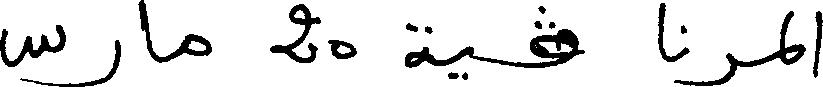X: (0, 20, 65, 86), (531, 1, 576, 72), (780, 6, 822, 82), (274, 0, 314, 67), (67, 35, 119, 86), (691, 48, 735, 86), (407, 18, 424, 72), (139, 0, 153, 63), (182, 29, 209, 60), (331, 35, 354, 63), (684, 21, 689, 86), (660, 0, 663, 86), (467, 41, 473, 83)
